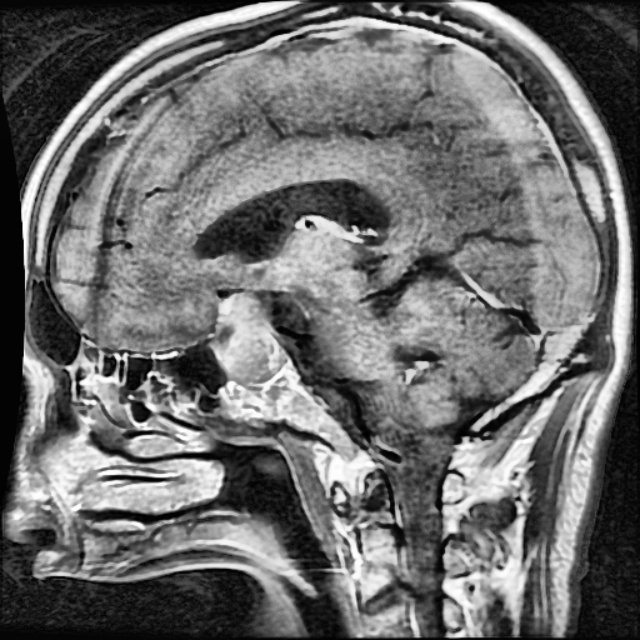Pituitary: (213, 292, 283, 375)
